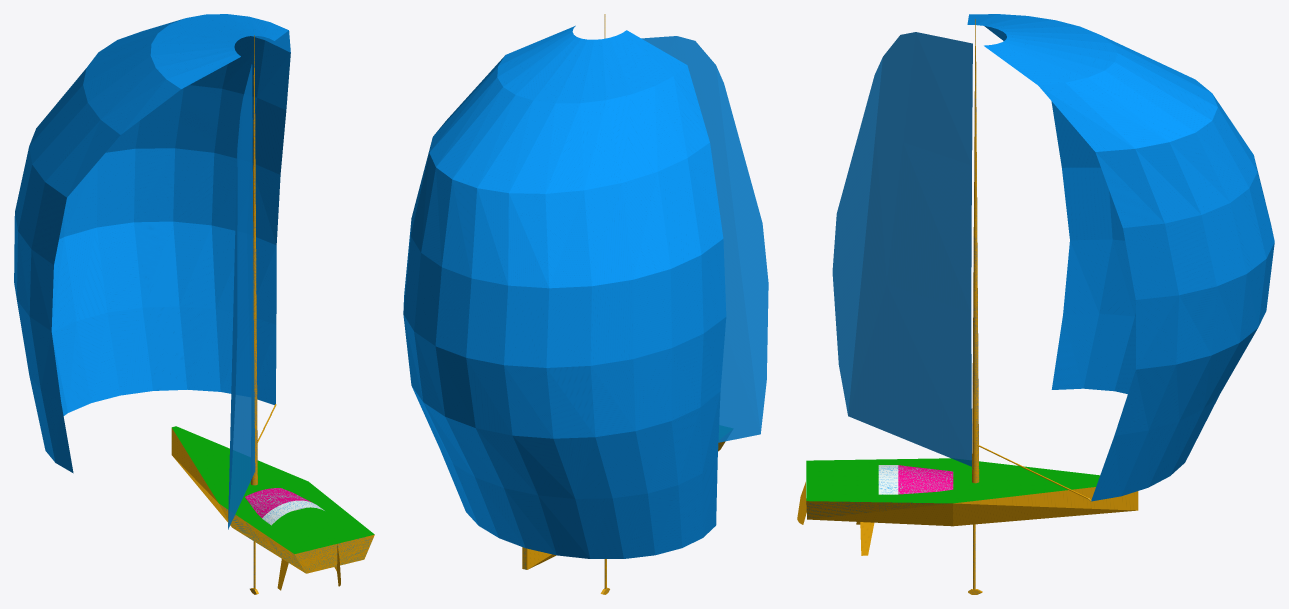
Rendered from spi_tribord_monocoque.dae.
The picture shows the model from 3 angles, left to right: view 1: azimuth 30°, elevation 25°; view 2: azimuth 150°, elevation 25°; view 3: azimuth 270°, elevation 25°; orthographic projection. The views are drawn at different scales.
Visible parts, largest first — view 1: SketchUp (×8); view 2: SketchUp (×2); view 3: SketchUp (×8).
Boxes of the visible parts, <box> form: SketchUp (×8): <box>14,14,374,573</box>; SketchUp (×2): <box>403,25,768,558</box>; SketchUp (×8): <box>806,14,1274,526</box>.
Bounding box in the file's own units: 66886 × 101999 × 135626.
